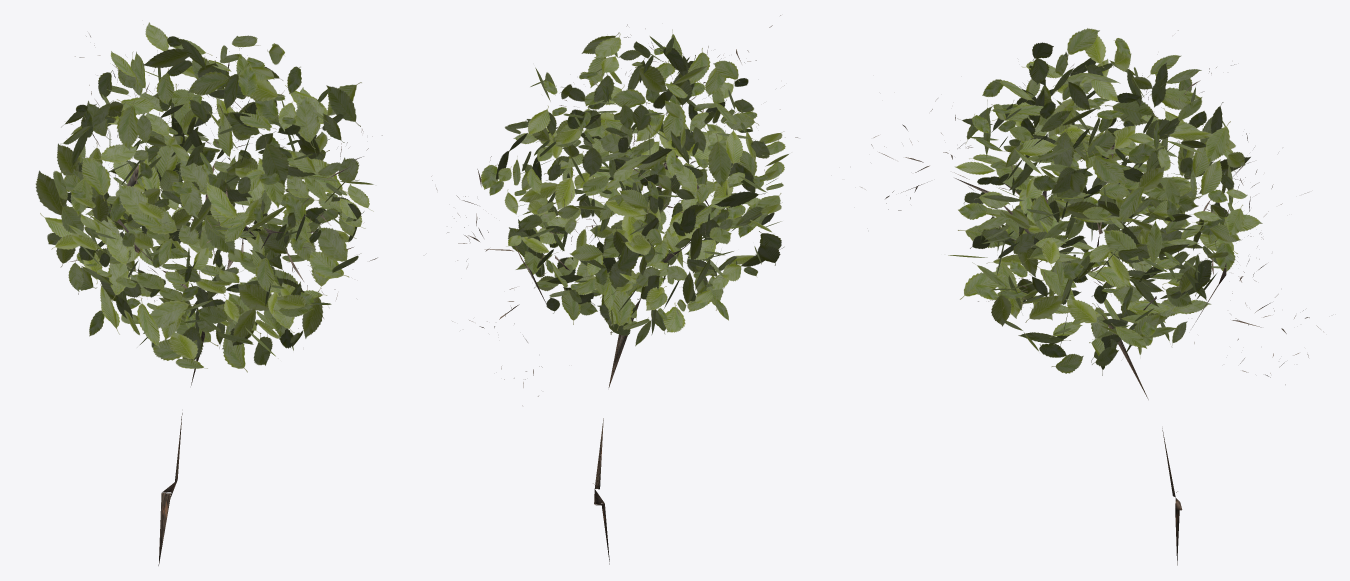
The model's file is tree-far.glb.
The picture shows the model from 3 angles, left to right: view 1: azimuth 30°, elevation 25°; view 2: azimuth 150°, elevation 25°; view 3: azimuth 270°, elevation 25°; orthographic projection. The views are drawn at different scales.
Visible parts, largest first — view 1: LeafCards, tree_small_02_LOD0; view 2: LeafCards, tree_small_02_LOD0; view 3: LeafCards, tree_small_02_LOD0.
Part boxes in pixels (box(x1,y1,x2,y2)): LeafCards: box(35, 22, 373, 372); tree_small_02_LOD0: box(66, 34, 382, 565); LeafCards: box(481, 29, 788, 346); tree_small_02_LOD0: box(431, 15, 797, 564); LeafCards: box(948, 28, 1262, 375); tree_small_02_LOD0: box(861, 30, 1323, 565).
Size of the model in its own units: 2.7 by 4.63 by 3.93.
3 materials, 3 textured.
